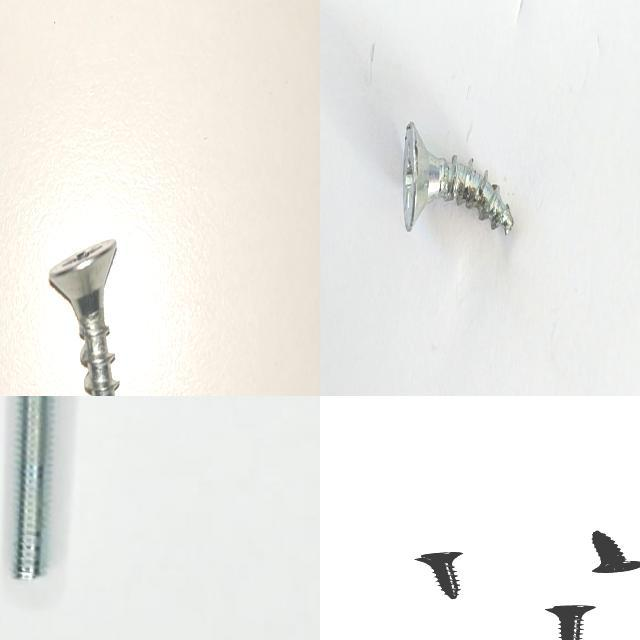Screw: (403, 121, 513, 234), (49, 237, 119, 396), (15, 396, 47, 580), (416, 552, 464, 599), (594, 530, 640, 573), (547, 605, 598, 640)
